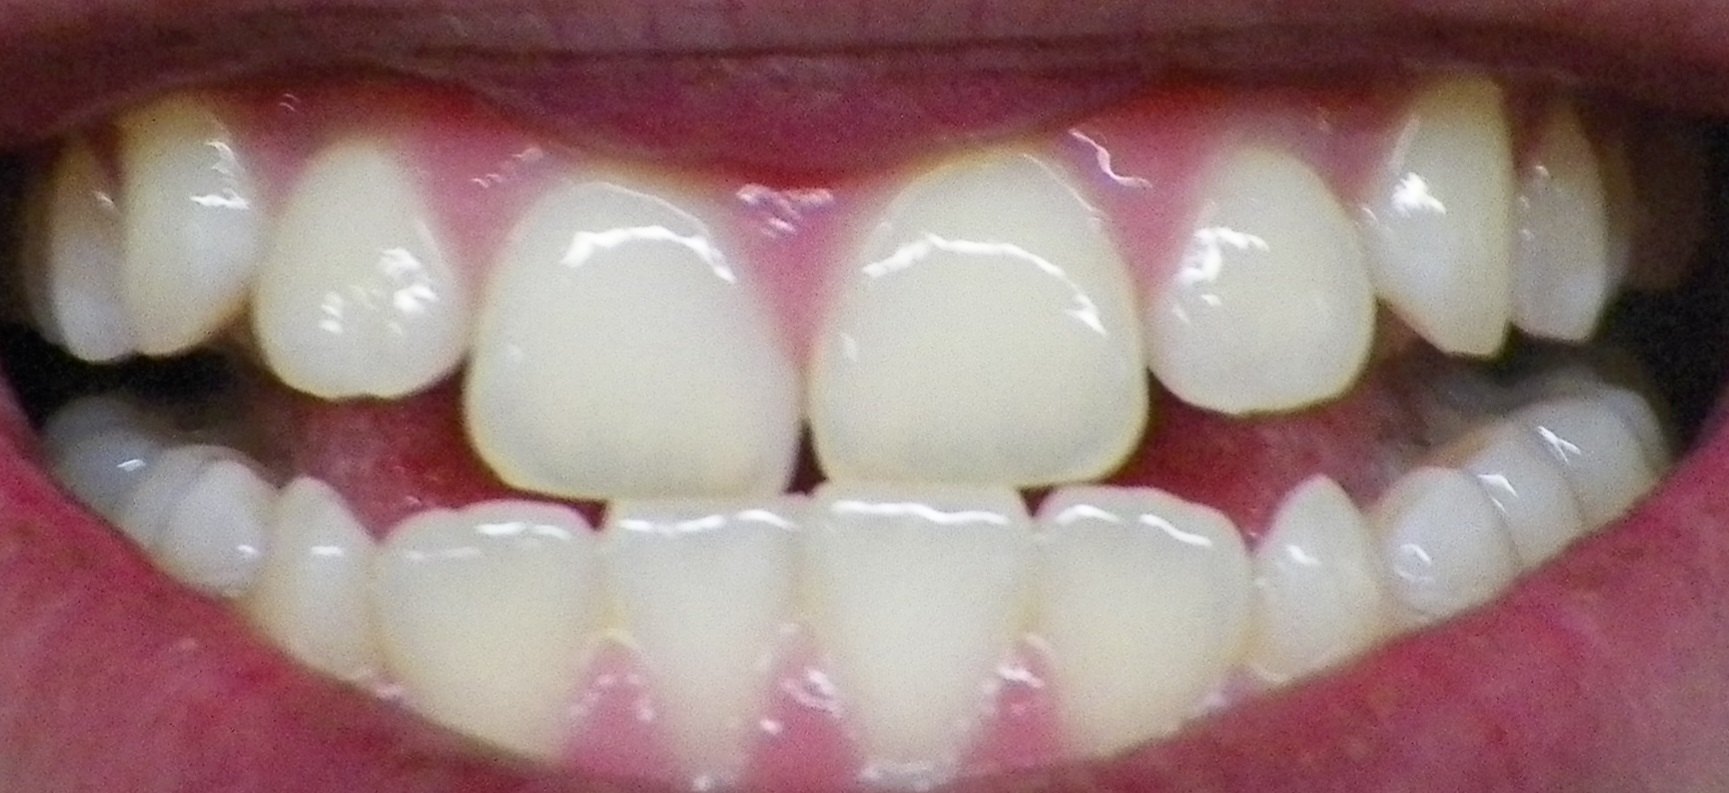boca: (31, 100, 1671, 760)
